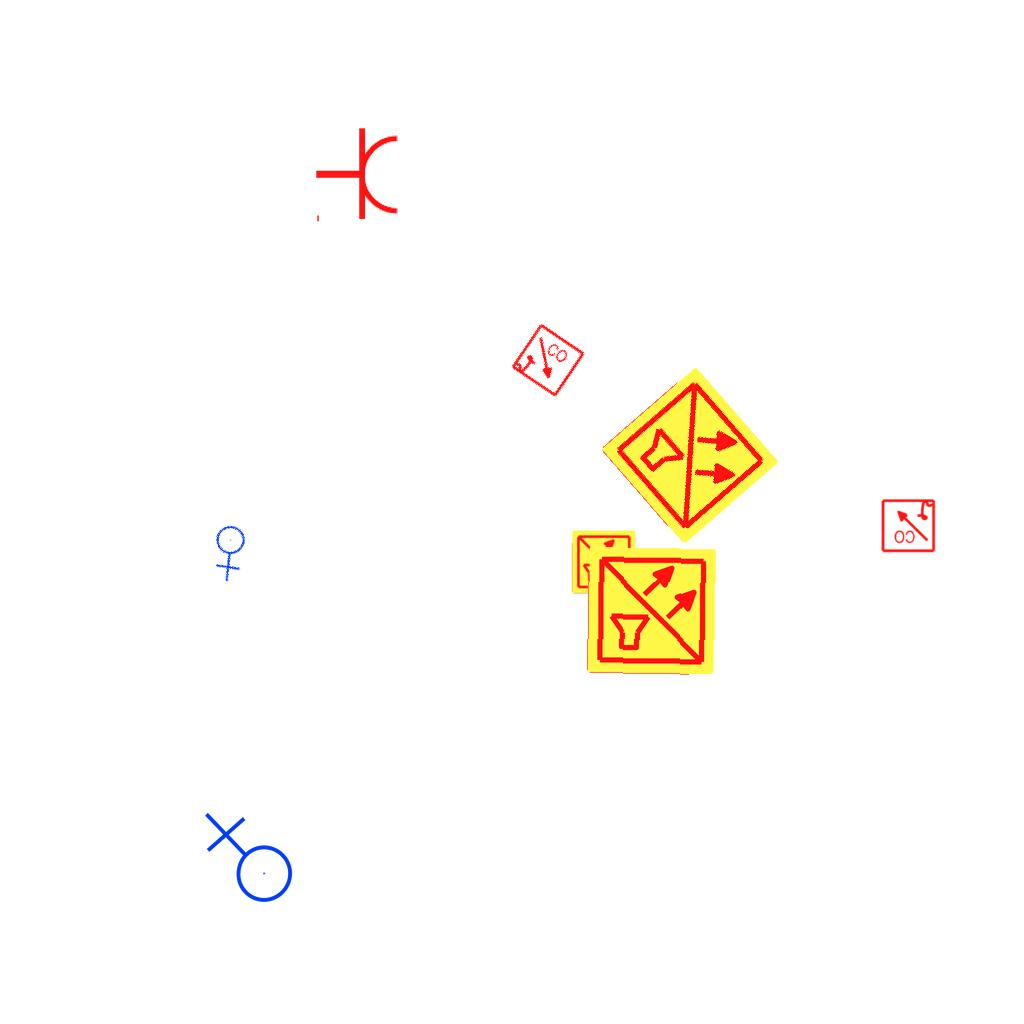Elektroanschluss_allgemein_230V_Geraeteanschlussdose_230V: (200, 812, 294, 911), (197, 516, 266, 585)
OKW_Multisensormelder_(Kombination_optischer_Rauch-Kahlenmonoxid_Waerme-Melder): (596, 362, 784, 550), (584, 543, 720, 679), (571, 529, 637, 595)
ROA_Rauchmelder_optisch_mit_Signalgeber_(Sockelsirene): (509, 322, 587, 400), (880, 497, 936, 553)
Schukosteckdose_einfach: (314, 126, 401, 226)
